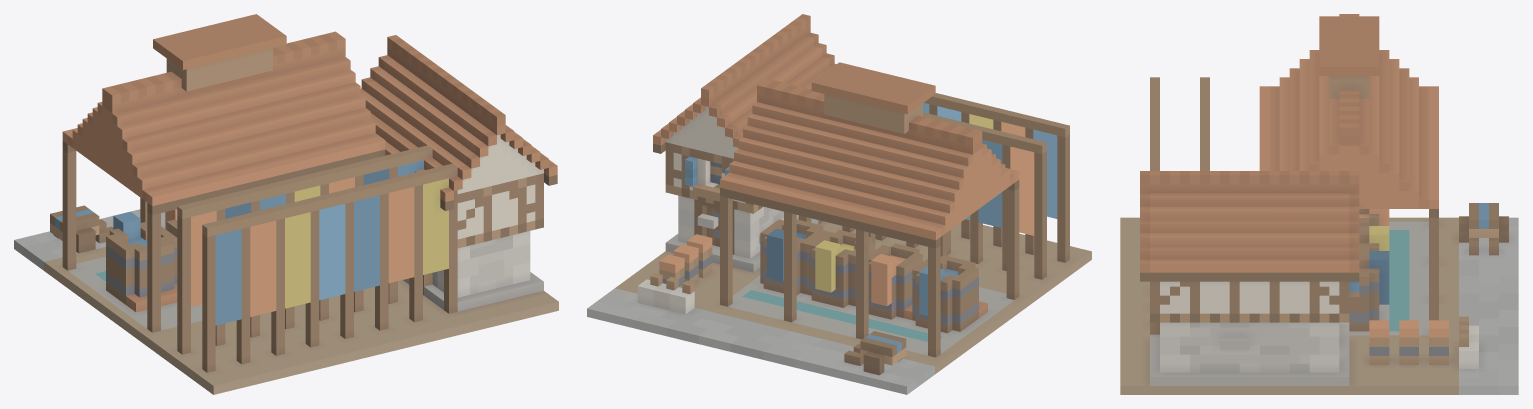
File: dyer_works.glb
3 views of the same model, side by side, from view 1: azimuth 30°, elevation 25°; view 2: azimuth 150°, elevation 25°; view 3: azimuth 270°, elevation 25° (orthographic). The views are drawn at different scales.
Parts seen in each view (by area): view 1: dyer_works; view 2: dyer_works; view 3: dyer_works.
Part boxes in pixels (x1=…): dyer_works: x1=14, y1=14, x2=558, y2=394; dyer_works: x1=587, y1=14, x2=1091, y2=394; dyer_works: x1=1120, y1=14, x2=1518, y2=394.
Size of the model in its own units: 5.12 by 3.38 by 5.
